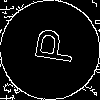P: (25, 25, 76, 65)
